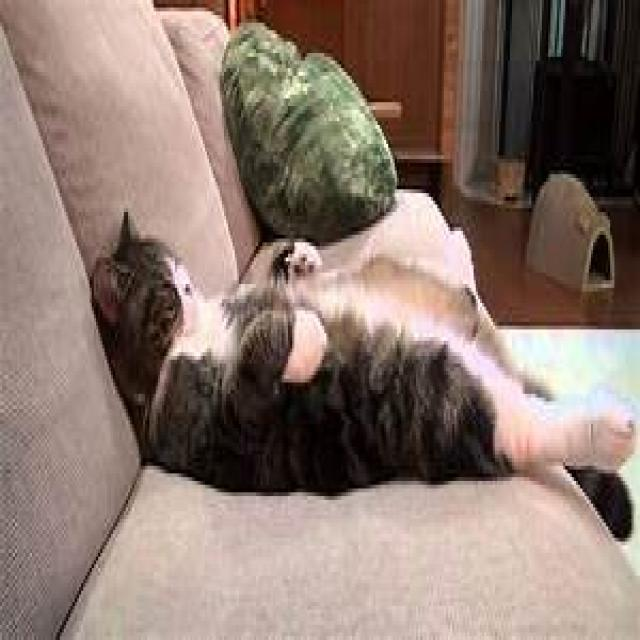animal: (87, 208, 634, 542)
